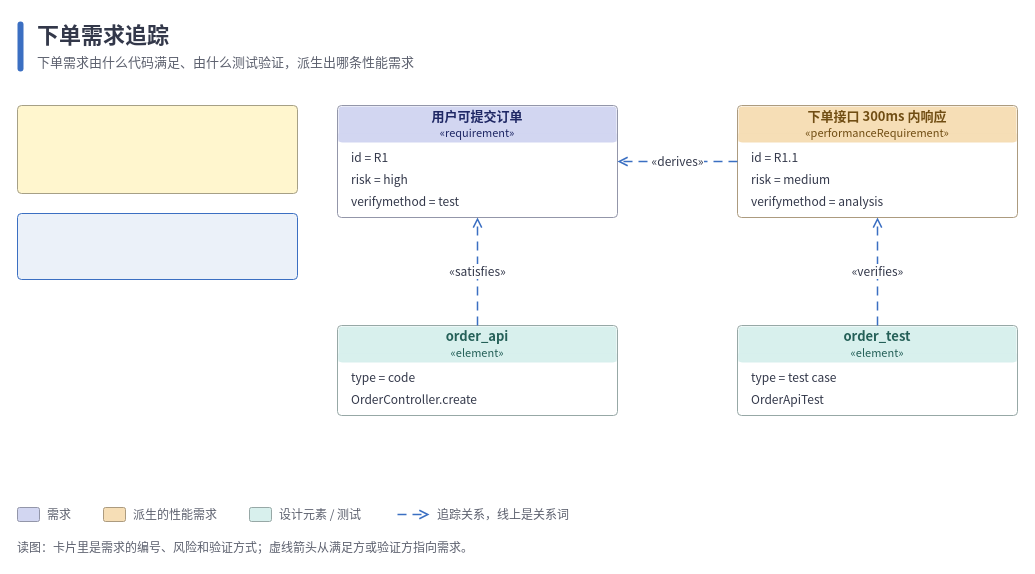
This 1035x574 diagram has some shape labels left out. The shapes that lost their labels are listed below. From the top down, each one's centre as x and y in pixels, then its label:
At pixel 157 149: "范围 只画有追踪价值的关系 需求清单本身在需求文档里".
At pixel 157 246: "不在这张图里 登录、支付的需求".
